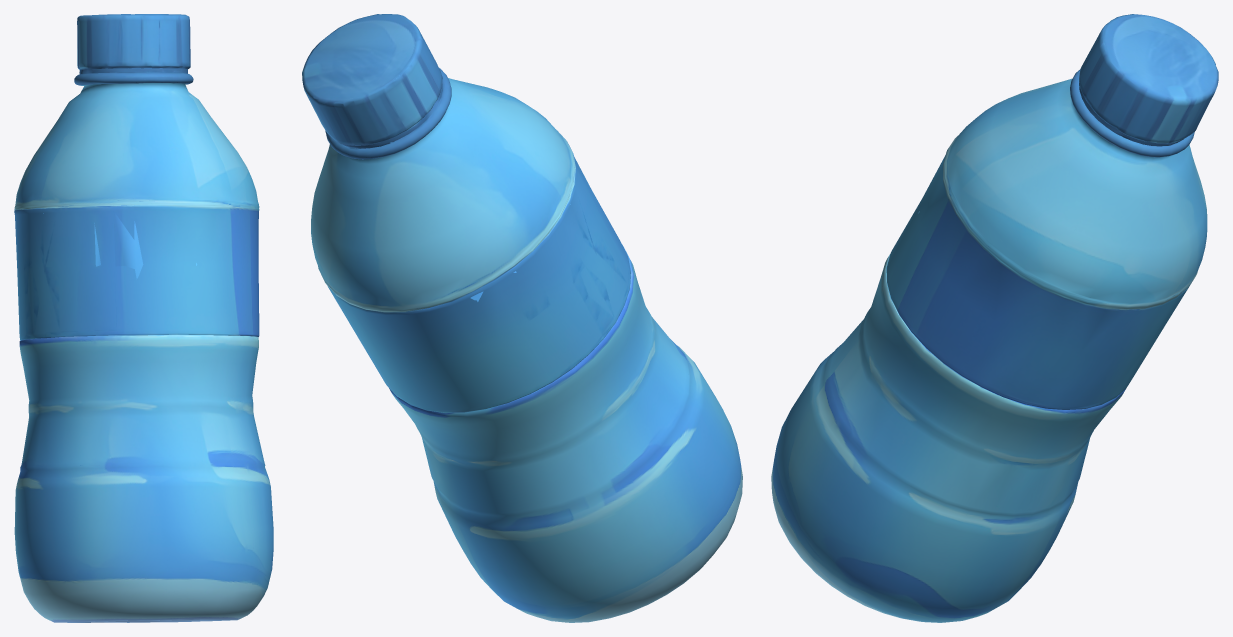
File: Botella.fbx
The picture shows the model from 3 angles, left to right: view 1: azimuth 30°, elevation 25°; view 2: azimuth 150°, elevation 25°; view 3: azimuth 270°, elevation 25°; orthographic projection. The views are drawn at different scales.
Visible parts, largest first — view 1: Botella; view 2: Botella; view 3: Botella.
Boxes of the visible parts, <box> form: Botella: <box>14,14,273,622</box>; Botella: <box>302,14,742,622</box>; Botella: <box>771,14,1218,622</box>.
Size of the model in its own units: 0.2385 by 0.45 by 0.2957.
1 material, 1 textured.
